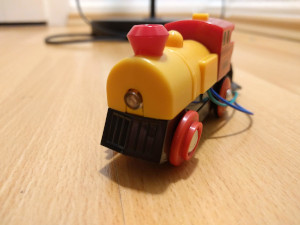brio: (99, 13, 239, 166)
